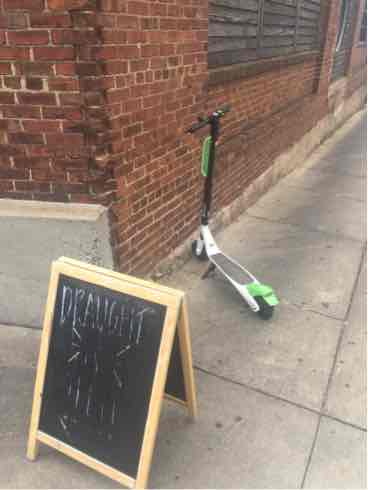scooter: (184, 98, 289, 328)
